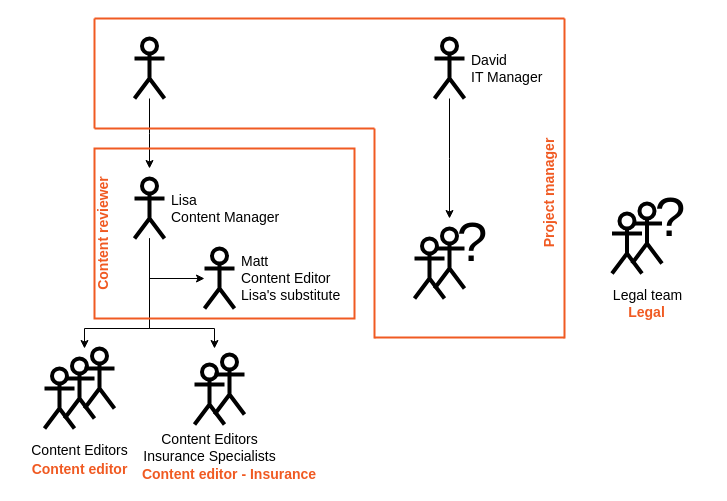
Some shapes in this 727 by 501 pixel diagram are drawn without their labels. The shapes that lost their labels are listed below. From the top down, each one's box as (x1, y1, x2, y2) in pixels, then its label:
(132, 36, 166, 100): Jennifer Director of Content Strategy
(432, 226, 466, 290): Developers
